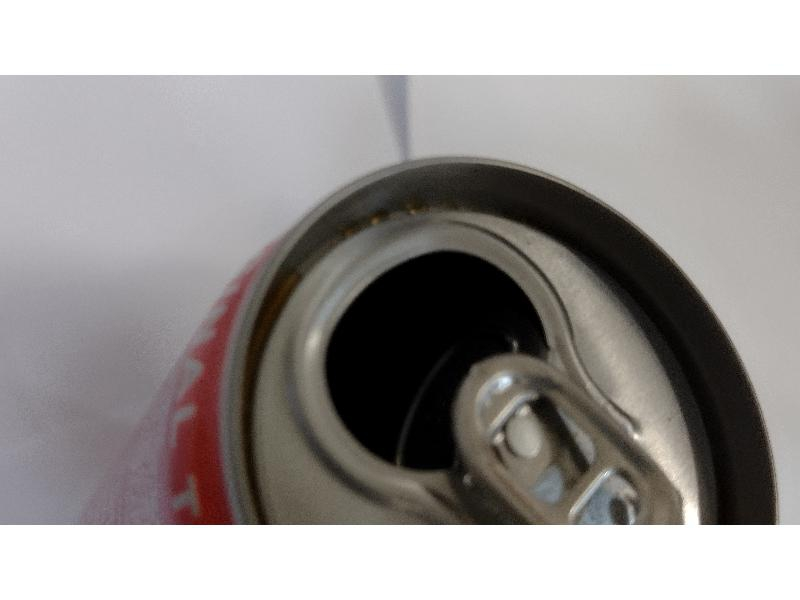can: (68, 156, 776, 524)
